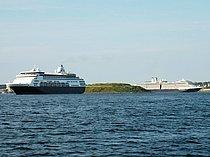Ship: (8, 63, 91, 98)
